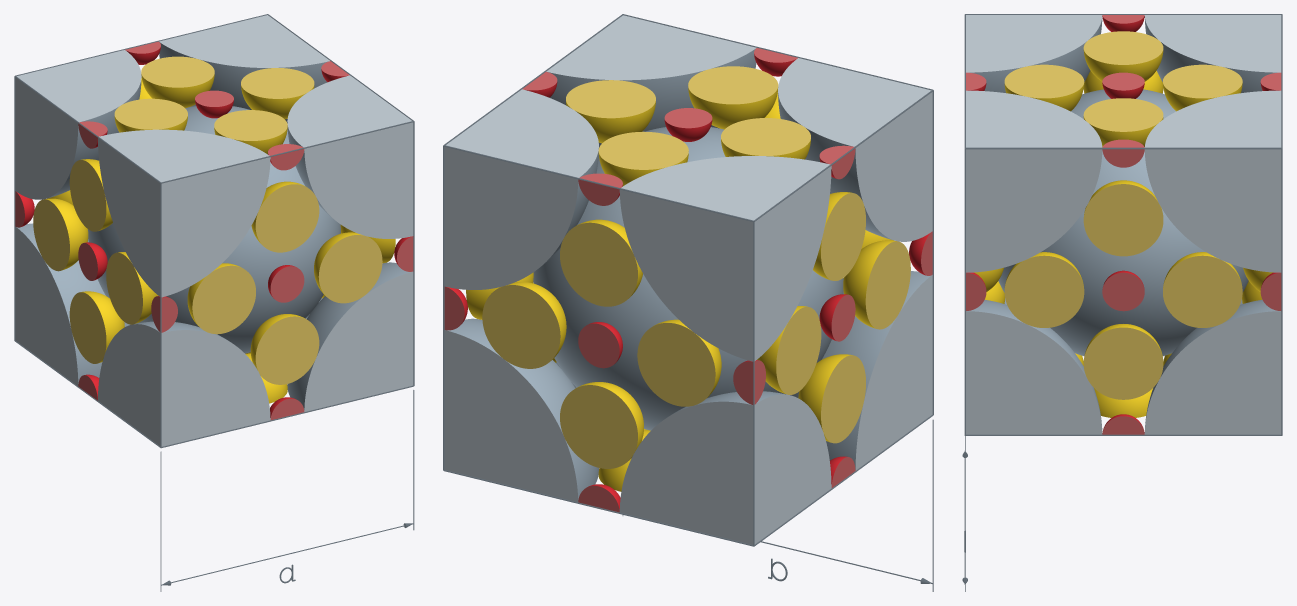
Rendered from krz-schnittmodell.glb.
3 renders of one model, left to right at view 1: azimuth 30°, elevation 25°; view 2: azimuth 150°, elevation 25°; view 3: azimuth 270°, elevation 25°, orthographic. The views are drawn at different scales.
Parts seen in each view (by area): view 1: atom_ecke_011, atom_ecke_001, atom_ecke_111, atom_ecke_010, atom_ecke_101, atom_zentrum, atom_ecke_000, atom_ecke_110, zellkanten, tetraeder_flaeche_21_03, tetraeder_flaeche_21_11, tetraeder_flaeche_21_01 (+20 smaller); view 2: atom_ecke_010, atom_ecke_000, atom_ecke_110, atom_ecke_011, atom_ecke_100, atom_zentrum, atom_ecke_001, atom_ecke_111, tetraeder_flaeche_20_03, tetraeder_flaeche_20_11, tetraeder_flaeche_20_01, tetraeder_flaeche_20_13 (+21 smaller); view 3: atom_ecke_110, atom_ecke_111, atom_ecke_100, atom_ecke_101, atom_zentrum, atom_ecke_010, atom_ecke_011, tetraeder_flaeche_01_11, tetraeder_flaeche_01_13, tetraeder_flaeche_01_23, tetraeder_flaeche_01_21, zellkanten (+13 smaller).
Boxes of the visible parts, <box> form: atom_ecke_011: <box>98,129,270,297</box>; atom_ecke_001: <box>98,321,270,446</box>; atom_ecke_111: <box>287,75,413,238</box>; atom_ecke_010: <box>15,50,141,199</box>; atom_ecke_101: <box>287,262,413,411</box>; atom_zentrum: <box>88,106,340,353</box>; atom_ecke_000: <box>15,223,129,385</box>; atom_ecke_110: <box>159,15,329,123</box>; zellkanten: <box>14,14,414,448</box>; tetraeder_flaeche_21_03: <box>314,232,382,303</box>; tetraeder_flaeche_21_11: <box>250,314,319,384</box>; tetraeder_flaeche_21_01: <box>187,263,255,334</box>; atom_ecke_010: <box>619,156,831,361</box>; atom_ecke_000: <box>619,391,831,544</box>; atom_ecke_110: <box>444,89,598,289</box>; atom_ecke_011: <box>778,58,932,241</box>; atom_ecke_100: <box>444,318,598,502</box>; atom_zentrum: <box>533,127,843,430</box>; atom_ecke_001: <box>792,271,932,470</box>; atom_ecke_111: <box>546,15,756,147</box>; tetraeder_flaeche_20_03: <box>482,282,566,368</box>; tetraeder_flaeche_20_11: <box>560,382,643,468</box>; tetraeder_flaeche_20_01: <box>637,319,721,406</box>; tetraeder_flaeche_20_13: <box>560,219,642,306</box>; atom_ecke_110: <box>1144,90,1281,272</box>; atom_ecke_111: <box>966,90,1102,272</box>; atom_ecke_100: <box>1144,299,1281,434</box>; atom_ecke_101: <box>966,300,1102,434</box>; atom_zentrum: <box>998,89,1248,356</box>; atom_ecke_010: <box>1144,15,1281,92</box>; atom_ecke_011: <box>966,15,1102,92</box>; tetraeder_flaeche_01_11: <box>1083,324,1163,399</box>; tetraeder_flaeche_01_13: <box>1083,180,1163,256</box>; tetraeder_flaeche_01_23: <box>1004,252,1084,327</box>; tetraeder_flaeche_01_21: <box>1163,252,1242,327</box>; zellkanten: <box>964,14,1282,435</box>.
Size of the model in its own units: 1 by 1.63 by 1.01.
